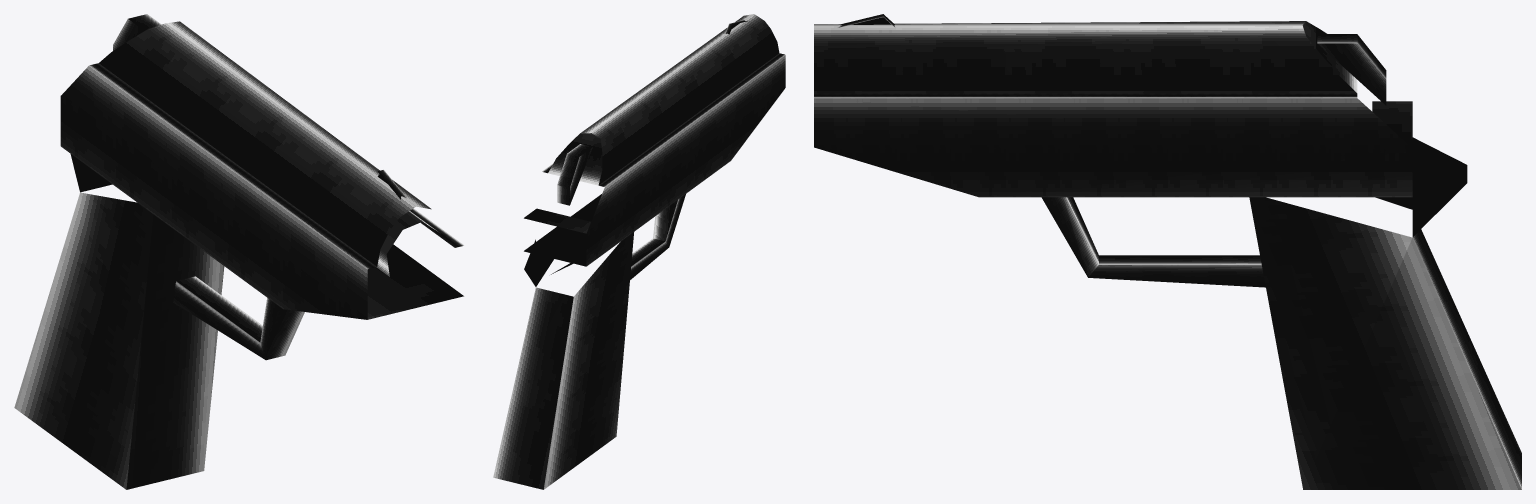
The model's file is gun_handless.glb.
3 renders of one model, left to right at view 1: azimuth 30°, elevation 25°; view 2: azimuth 150°, elevation 25°; view 3: azimuth 270°, elevation 25°, orthographic. The views are drawn at different scales.
Visible parts, largest first — view 1: m4, m7; view 2: m4, m7; view 3: m4, m7.
Part boxes in pixels (x1=…): m4: x1=14, y1=14, x2=463, y2=489; m7: x1=70, y1=154, x2=387, y2=192; m4: x1=493, y1=14, x2=785, y2=489; m7: x1=524, y1=23, x2=739, y2=286; m4: x1=814, y1=14, x2=1521, y2=489; m7: x1=851, y1=17, x2=1467, y2=236.
Bounding box in the file's own units: 30 × 138 × 194.
2 materials, 2 textured.
